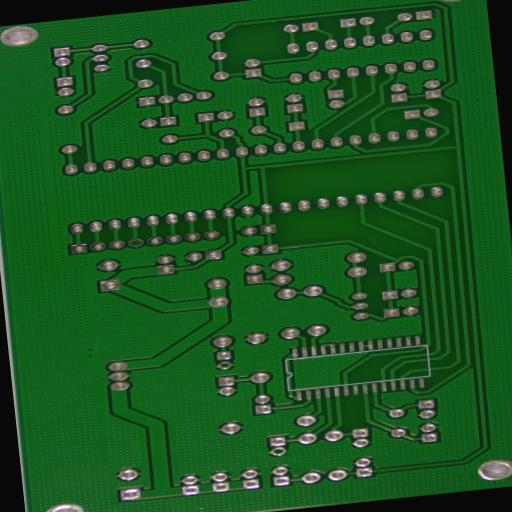missing_hole: (126, 236, 146, 248), (269, 446, 288, 456), (216, 360, 234, 370)
